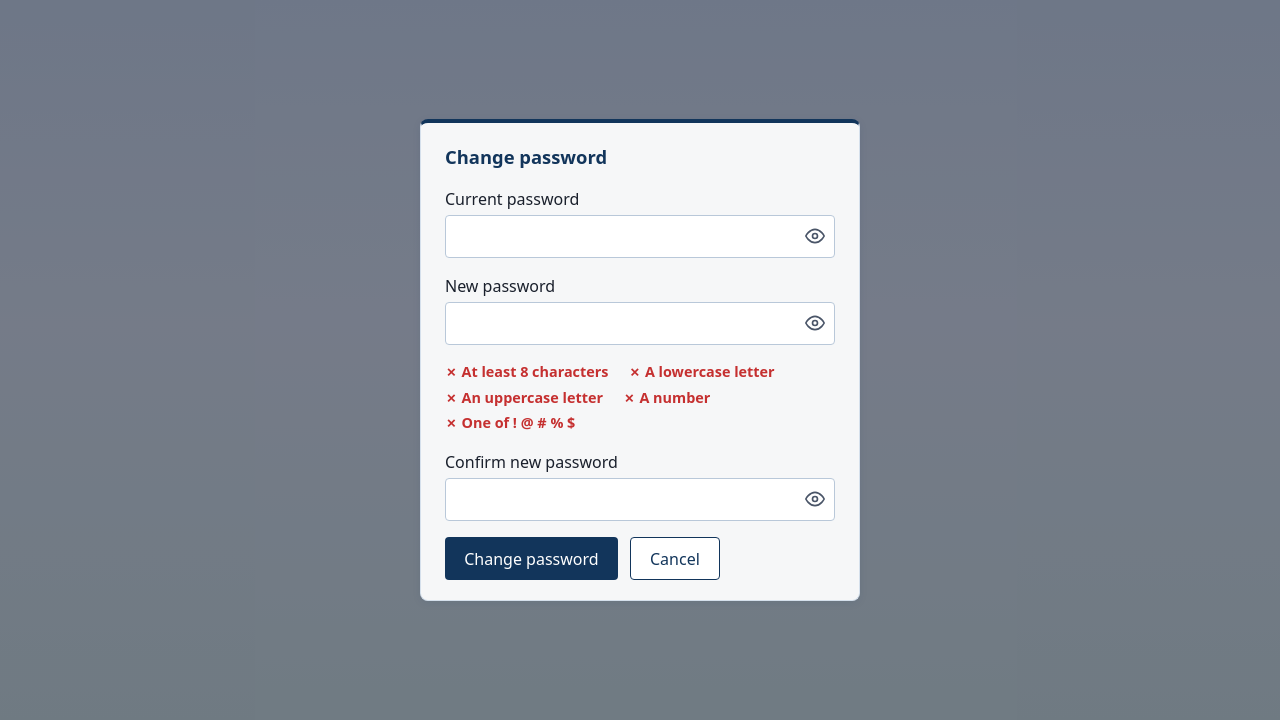
submitting › shows the server message when the current password is wrong
In the password field labelled "Current password": (640, 236) [445,214,835,258], type "WrongPass999!"
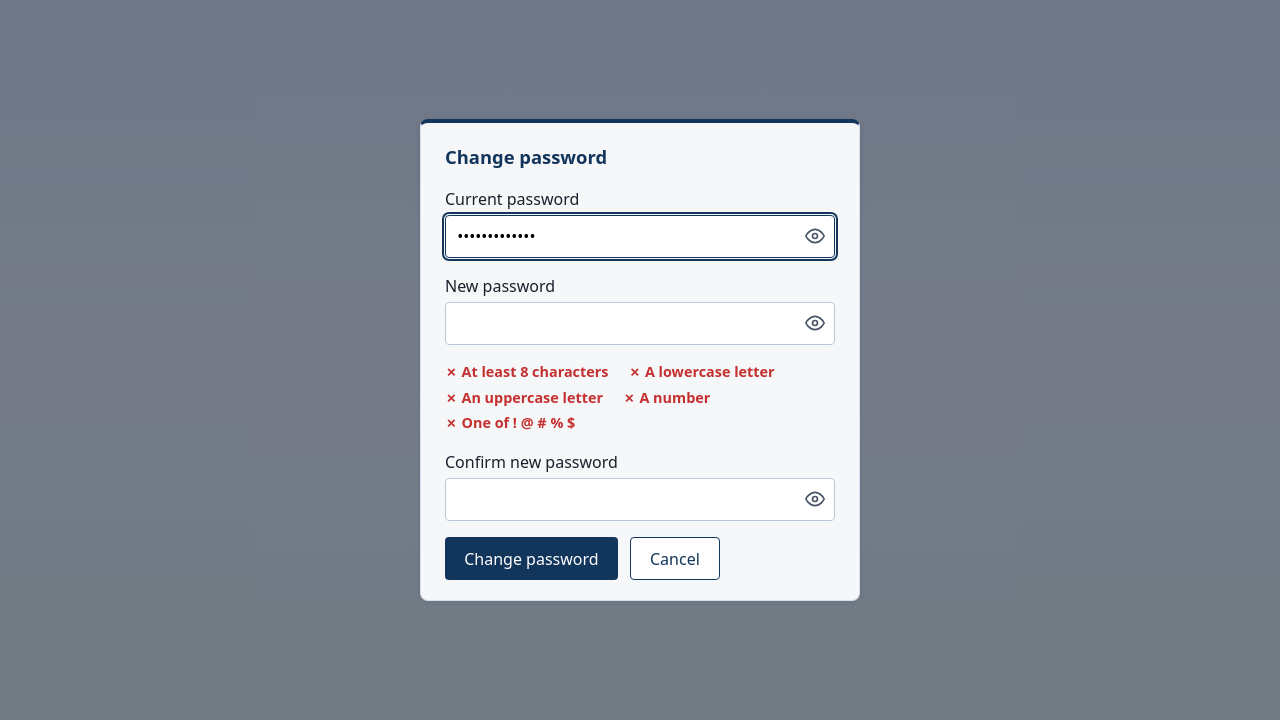
In the password field labelled "New password": (640, 323) [445,302,835,345], type "Brandnew456#"
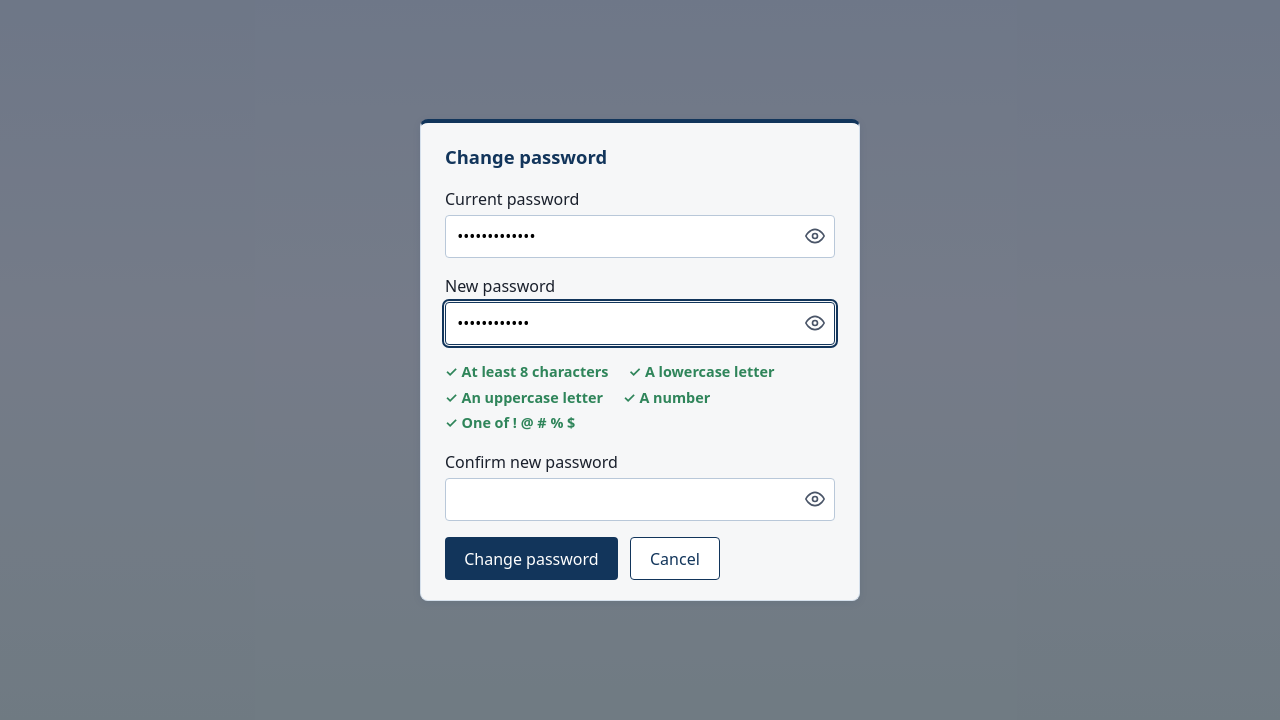
In the password field labelled "Confirm new password": (640, 499) [445,478,835,521], type "Brandnew456#"
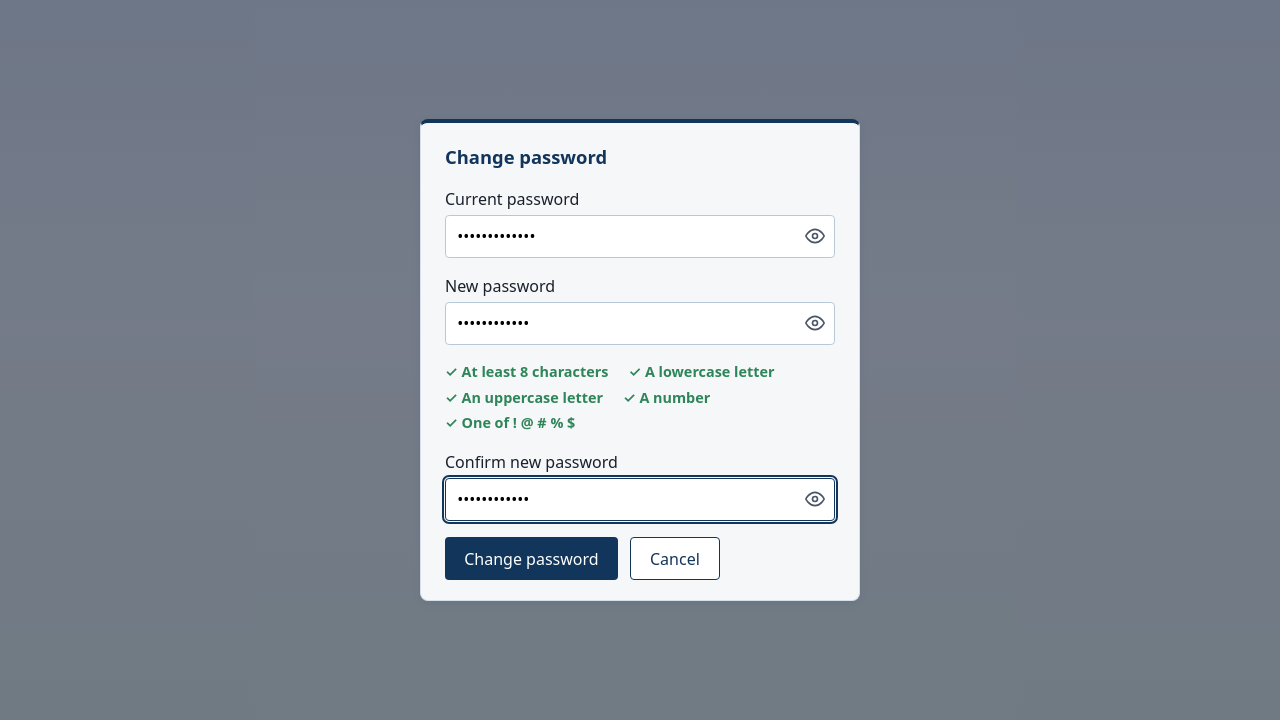
Click the button "Change password": click(531, 558) [445,537,618,580]
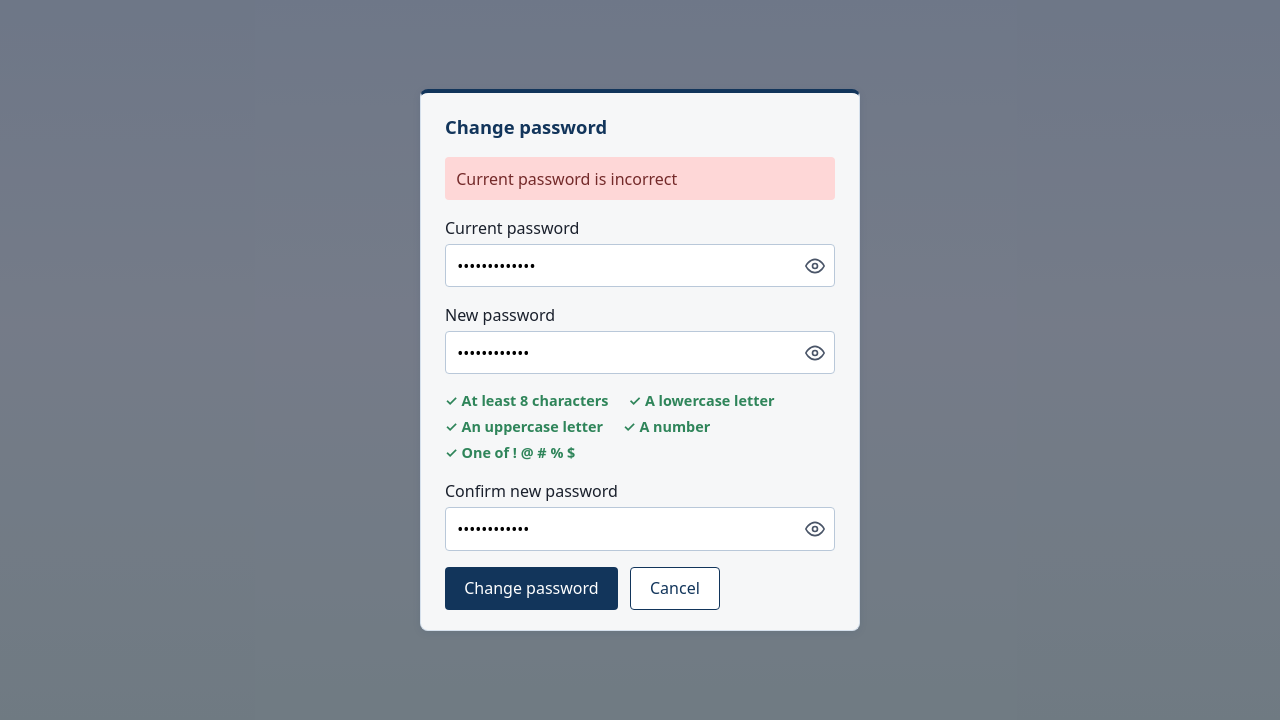
Expected: the message reads "Current password is incorrect", [456,168,677,190]
